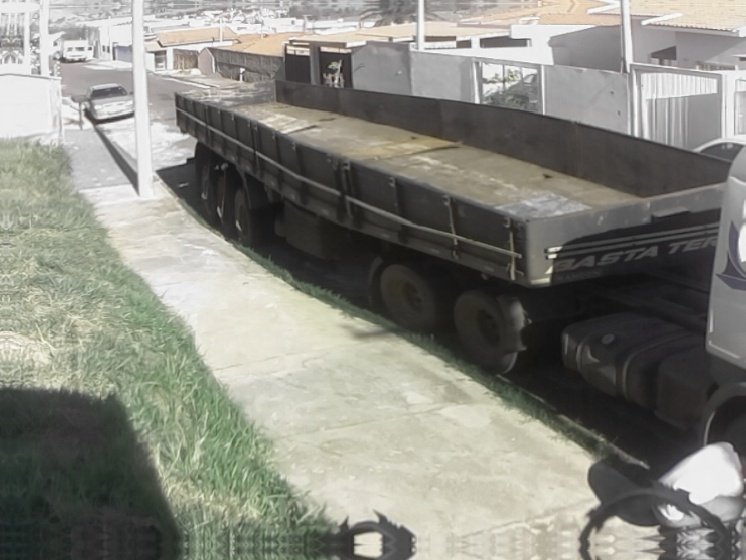person: (642, 436, 746, 560)
